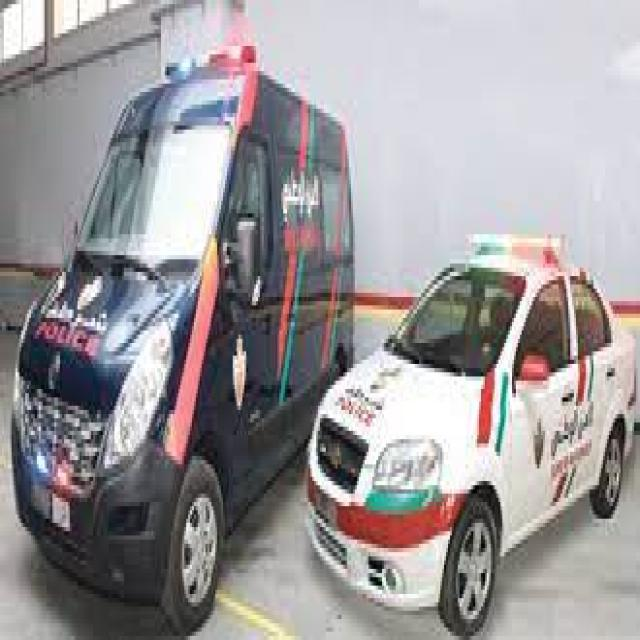police: (12, 52, 355, 632), (309, 241, 638, 634)
